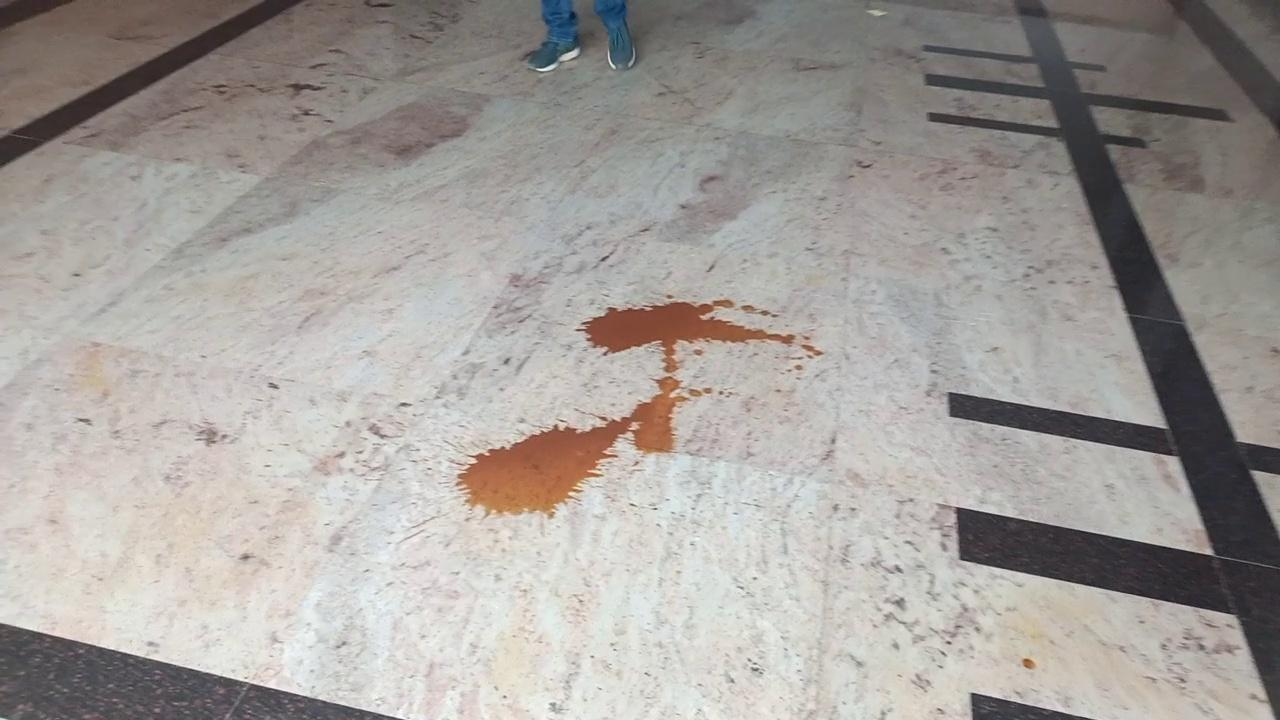dirty_floor: (461, 291, 820, 519)
